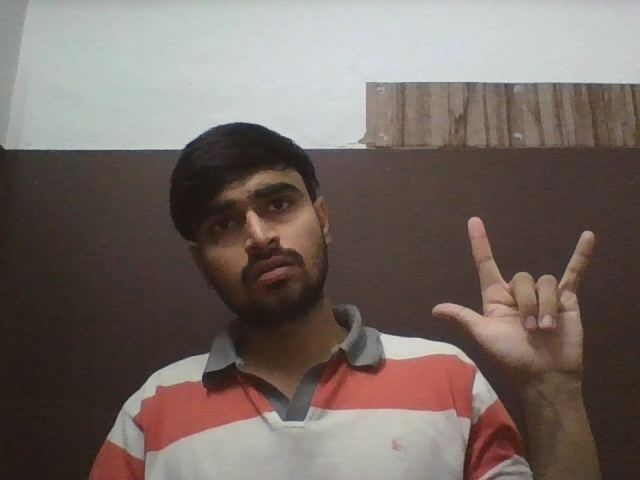I Love You: (431, 215, 596, 384)
